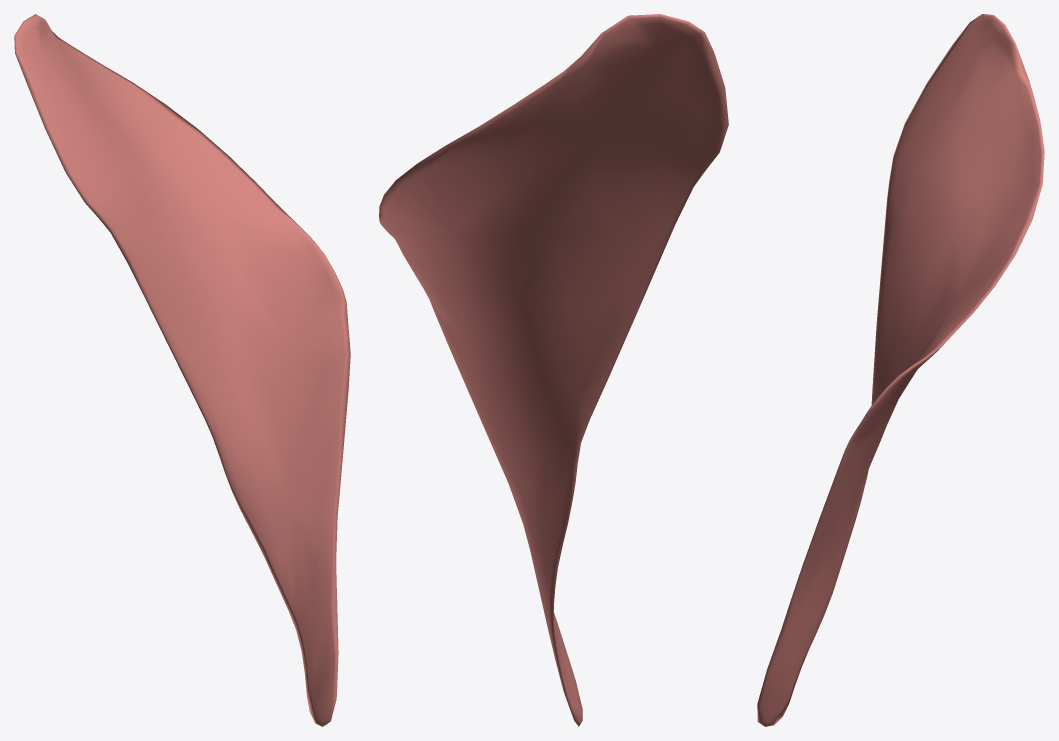
The picture shows the model from 3 angles, left to right: view 1: azimuth 30°, elevation 25°; view 2: azimuth 150°, elevation 25°; view 3: azimuth 270°, elevation 25°; orthographic projection. The views are drawn at different scales.
Visible parts, largest first — view 1: ZA_dea036841cde7689; view 2: ZA_dea036841cde7689; view 3: ZA_dea036841cde7689.
Part boxes in pixels (<box>): ZA_dea036841cde7689: <box>14,14,350,726</box>; ZA_dea036841cde7689: <box>379,14,728,726</box>; ZA_dea036841cde7689: <box>757,14,1044,726</box>.
Bounding box in the file's own units: 0.0324 × 0.0738 × 0.0305.
